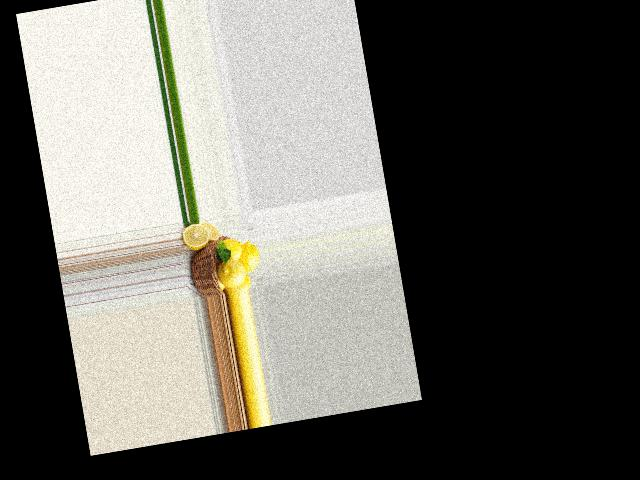lemon: (214, 235, 245, 267)
